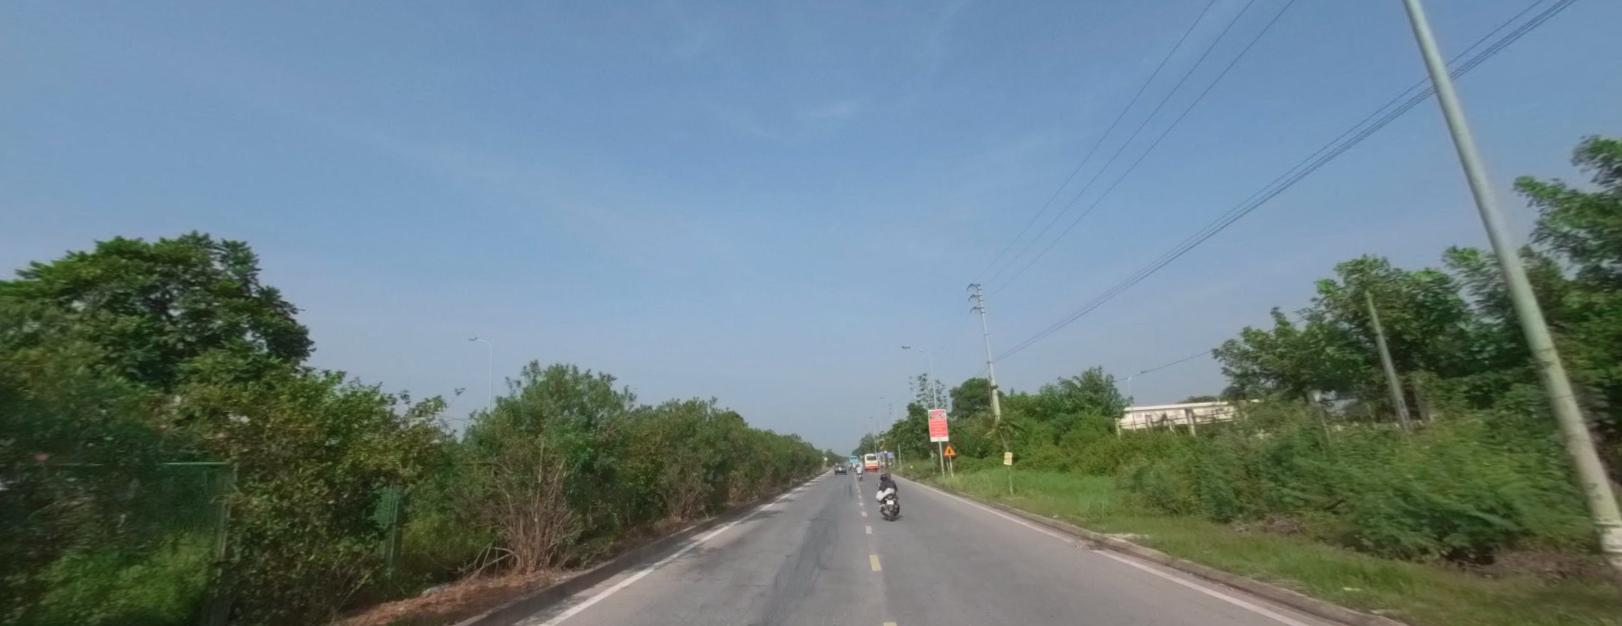Nguy hiem: (942, 442, 957, 455)
